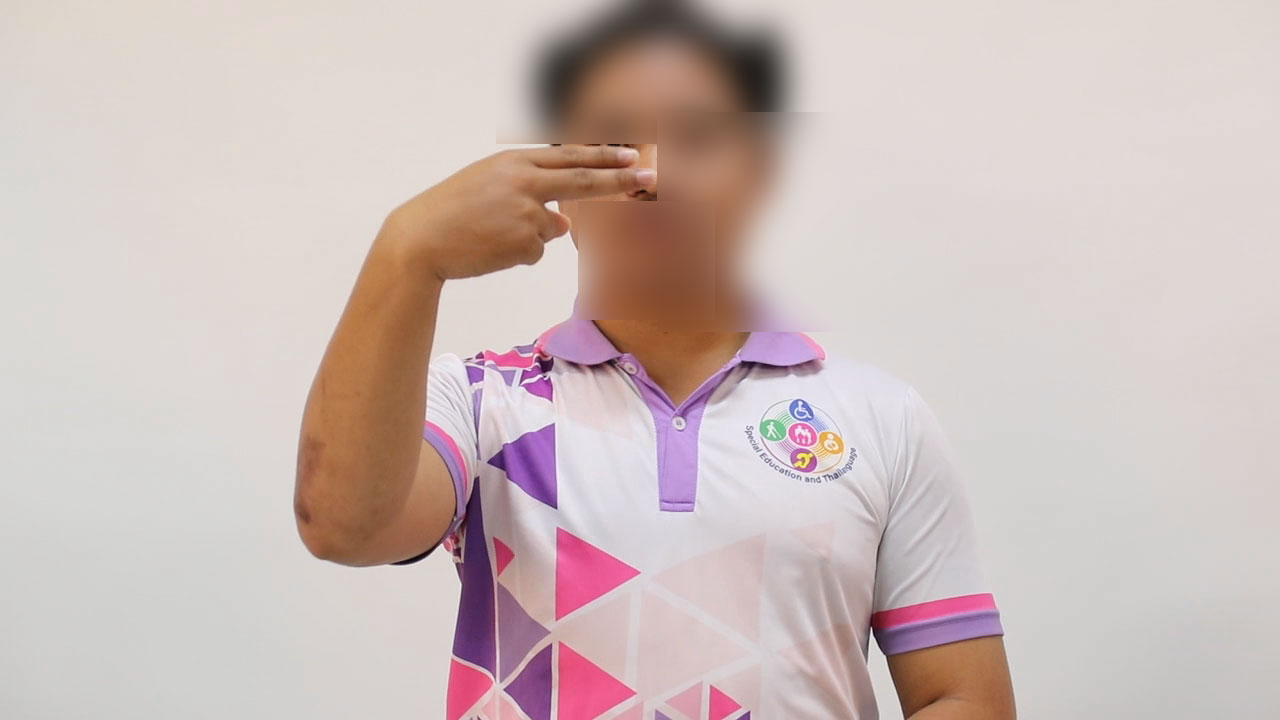hor: (354, 131, 673, 291)
